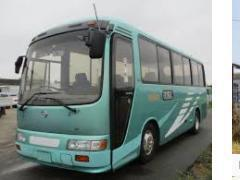bus: (14, 13, 206, 172)
